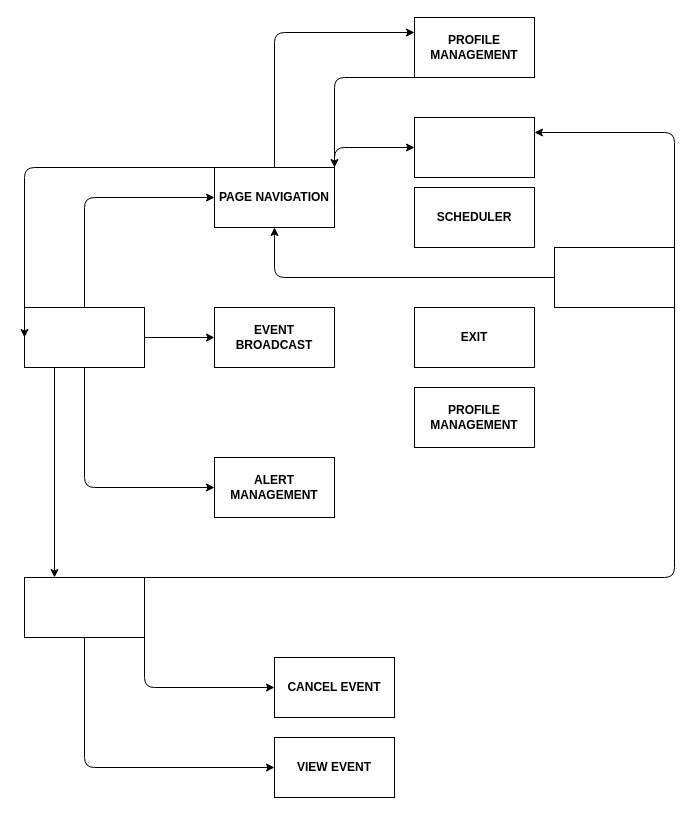
This 700x815 diagram has some shape labels left out. The centre of each missing label's shape, as x and y in pixels:
"HELP" belongs at [614,277].
"HOME SCREEN" belongs at [84,337].
"LIVE SESSION" belongs at [474,147].
"USER SCHEDULE" belongs at [84,607].
